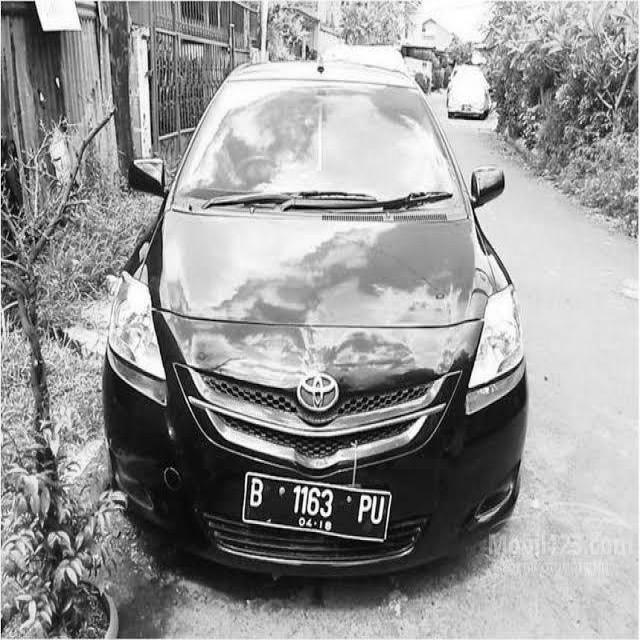1: (300, 484, 310, 514), (290, 486, 300, 514)
3: (319, 490, 336, 520)
6: (308, 484, 320, 520)
B: (243, 474, 268, 516)
P: (356, 490, 371, 522)
U: (372, 494, 385, 524)
